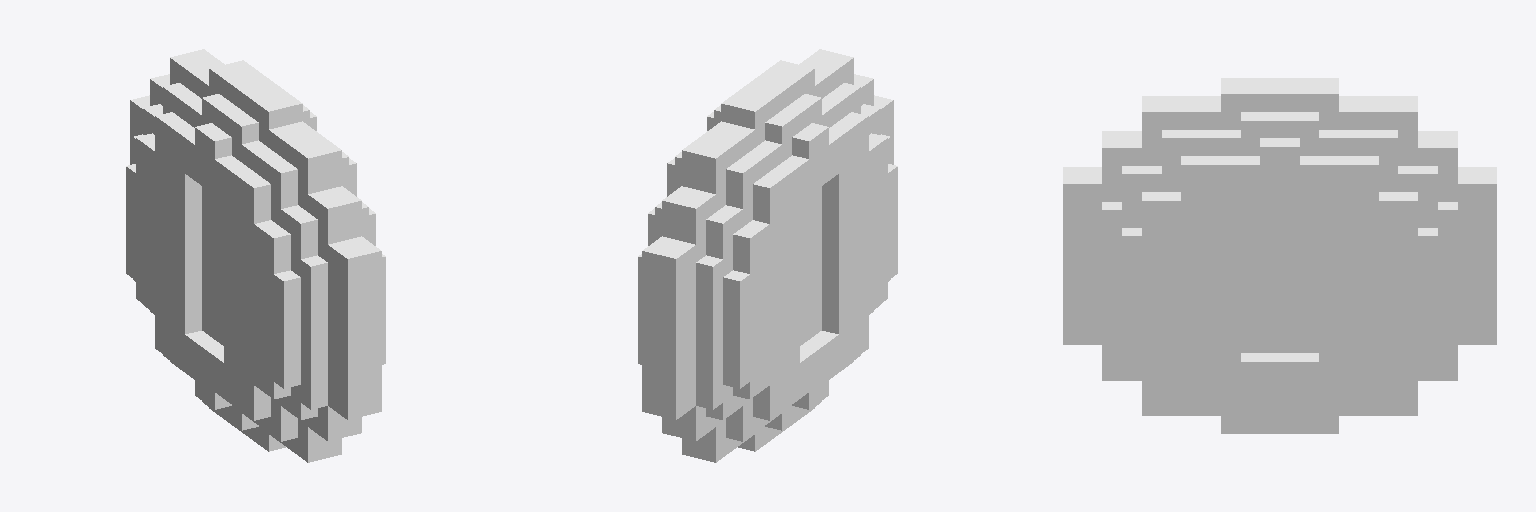
Rendered from ExtrasCoin.obj.
3 renders of one model, left to right at view 1: azimuth 30°, elevation 25°; view 2: azimuth 150°, elevation 25°; view 3: azimuth 270°, elevation 25°, orthographic.
Parts seen in each view (by area): view 1: object 1; view 2: object 1; view 3: object 1.
Boxes of the visible parts, x1,y1,x2,y2 form: object 1: [126, 49, 385, 462]; object 1: [638, 49, 897, 462]; object 1: [1063, 78, 1496, 433].
Size of the model in its own units: 0.6 by 1.9 by 2.2.